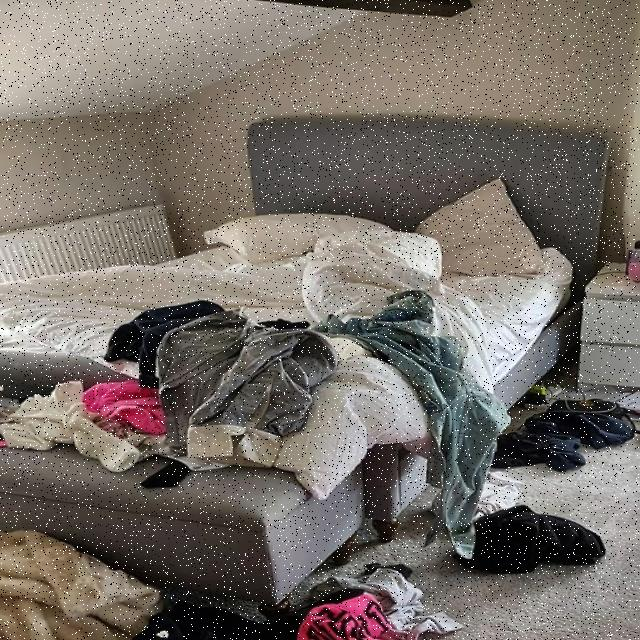bed: (0, 153, 610, 574)
